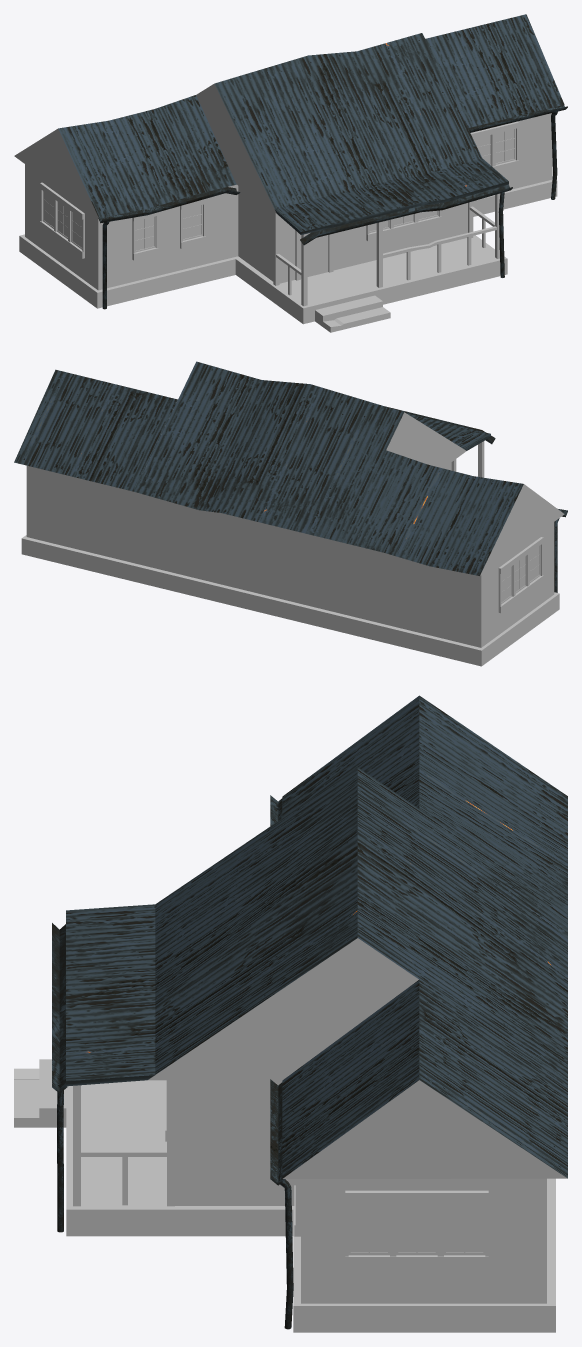
Rendered from HouseExterior_Textured.fbx.
3 renders of one model, top to bottom at view 1: azimuth 30°, elevation 25°; view 2: azimuth 150°, elevation 25°; view 3: azimuth 270°, elevation 25°, orthographic. The views are drawn at different scales.
Visible parts, largest first — view 1: house_roof, house_base, house_windows, house_gutters, house_verander supports, house_door; view 2: house_roof, house_base, house_windows, house_gutters; view 3: house_roof, house_base, house_windows, house_gutters, house_verander supports.
Part boxes in pixels (x1=…): house_roof: x1=14, y1=14, x2=564, y2=234; house_base: x1=19, y1=113, x2=557, y2=332; house_windows: x1=40, y1=121, x2=518, y2=260; house_gutters: x1=98, y1=105, x2=567, y2=309; house_verander supports: x1=273, y1=193, x2=500, y2=306; house_door: x1=295, y1=230, x2=333, y2=280; house_roof: x1=14, y1=361, x2=564, y2=575; house_base: x1=21, y1=462, x2=559, y2=666; house_windows: x1=498, y1=537, x2=543, y2=613; house_gutters: x1=386, y1=406, x2=567, y2=592; house_roof: x1=66, y1=695, x2=567, y2=1178; house_base: x1=14, y1=1059, x2=555, y2=1332; house_windows: x1=165, y1=1080, x2=488, y2=1268; house_gutters: x1=52, y1=795, x2=293, y2=1329; house_verander supports: x1=73, y1=1080, x2=174, y2=1206.
Bounding box in the file's own units: 1560 × 583 × 950.
